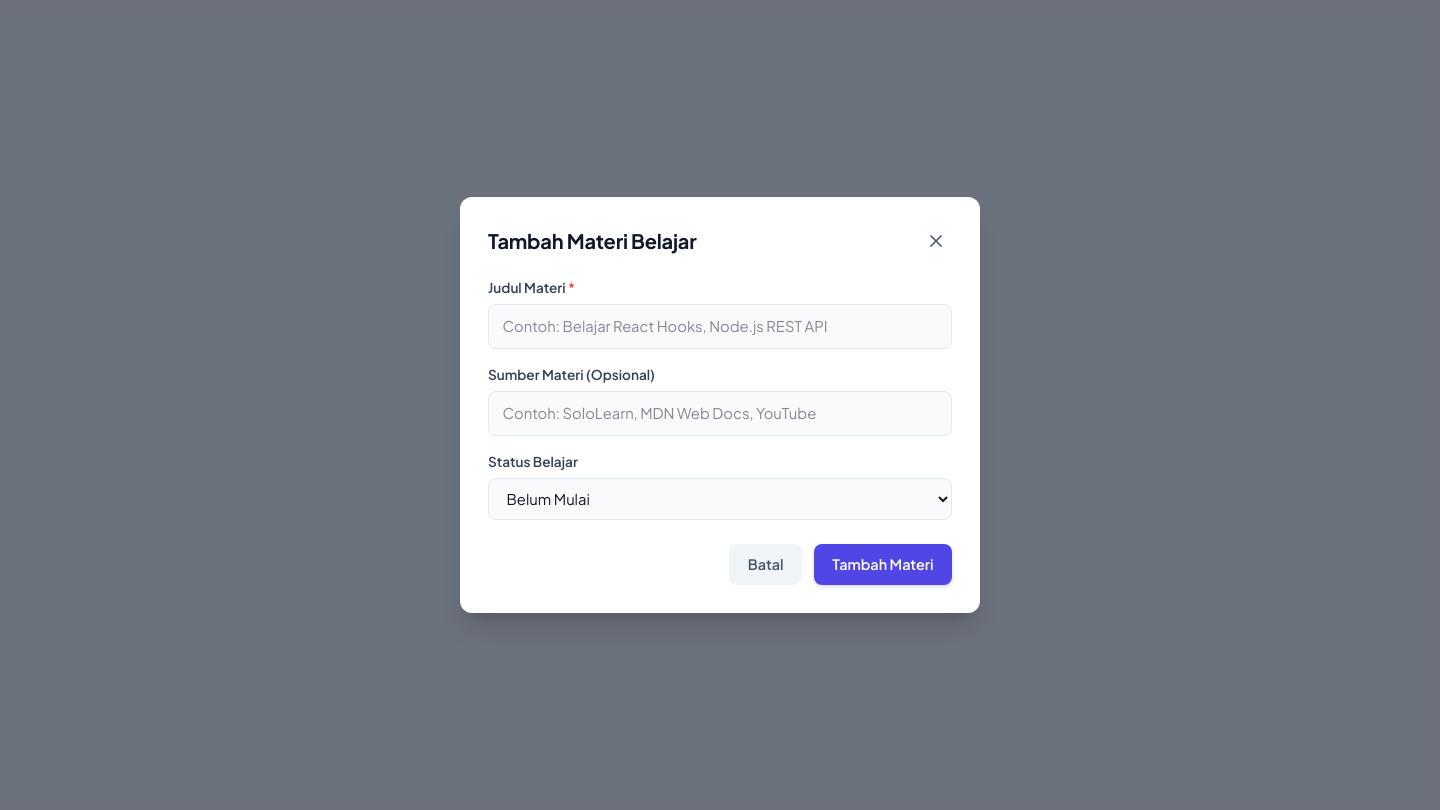
Test case: MateriForm Component tests › menampilkan error jika judul kosong saat submit
The image size is (1440, 810).
Step 1. Click the button "Tambah Materi" → (883, 565), box [814,544,952,585]
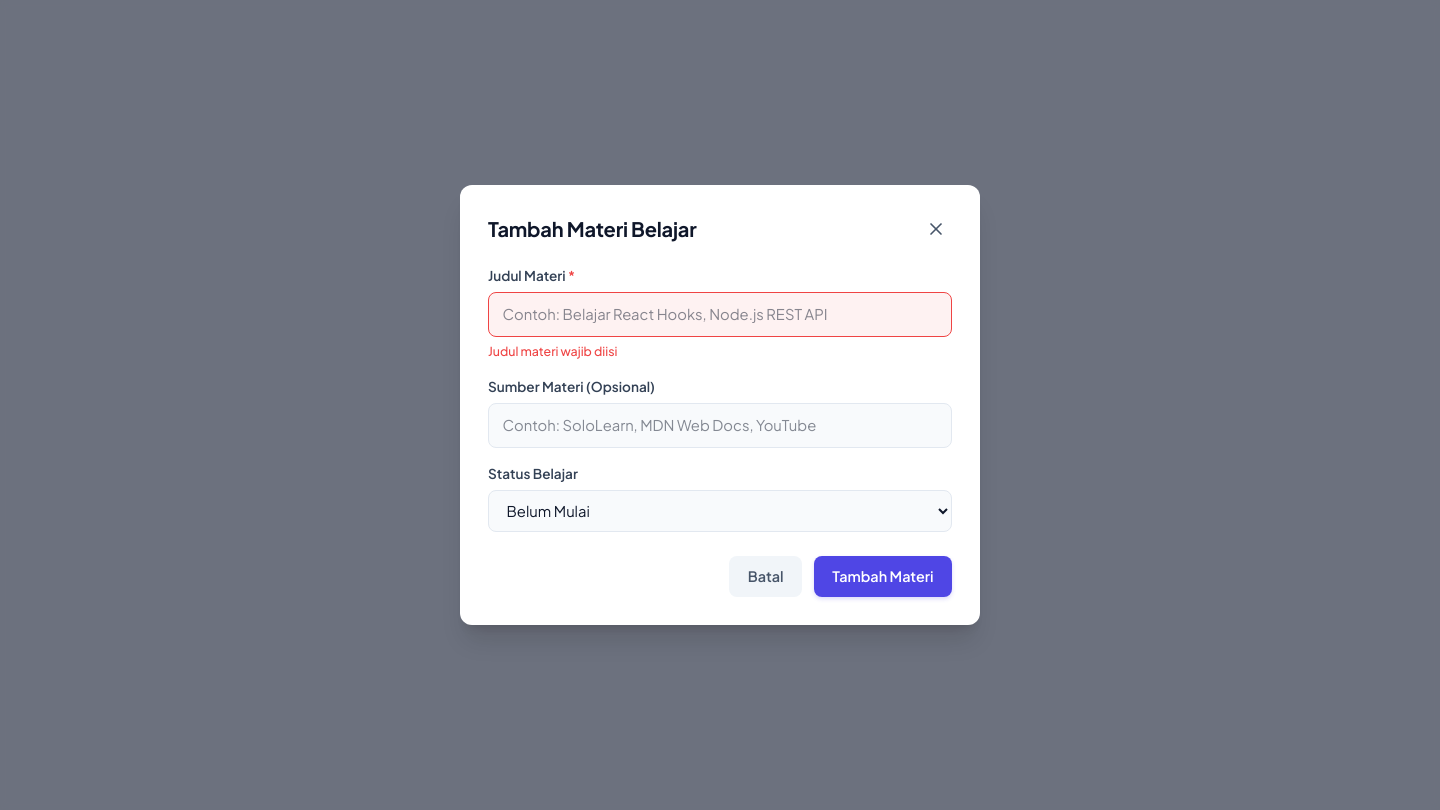
Result: the text "Judul materi wajib diisi" is shown at [488,343,617,359]
